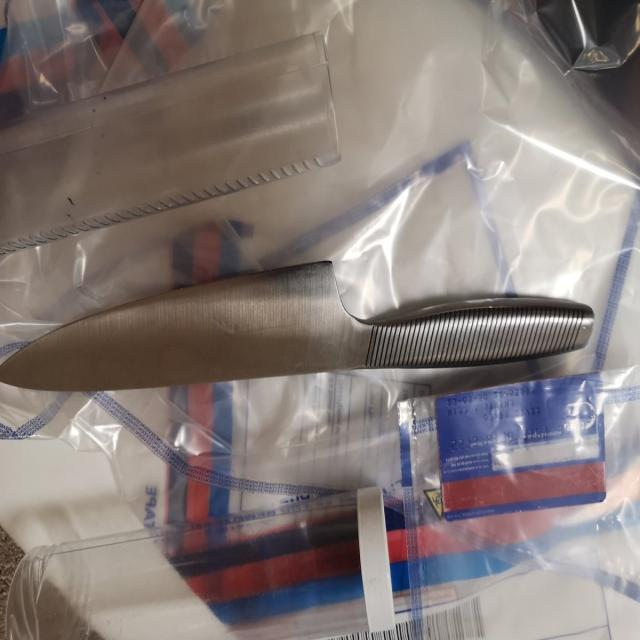Sharp-Object: (0, 263, 603, 393)
